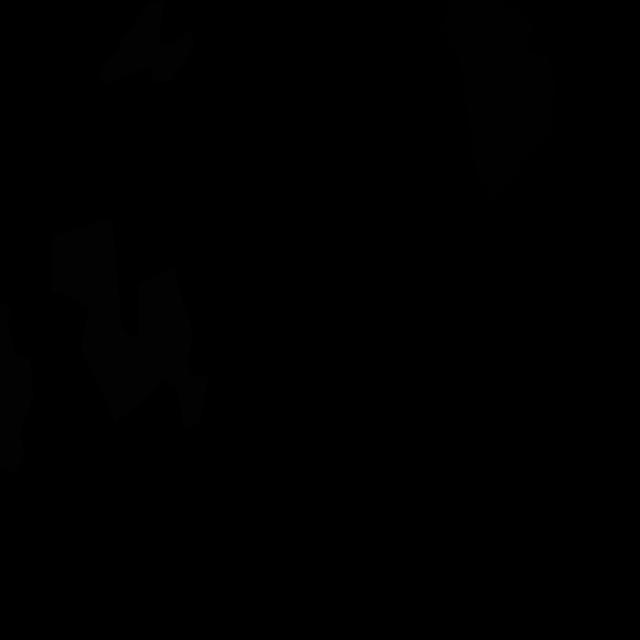cardboard: (51, 218, 208, 429), (98, 1, 195, 86), (0, 300, 34, 474)
rigid_plastic: (439, 0, 557, 203)
